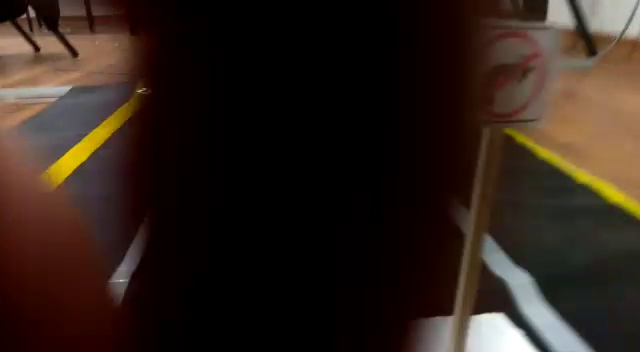saga_donulmez: (475, 22, 547, 124)
